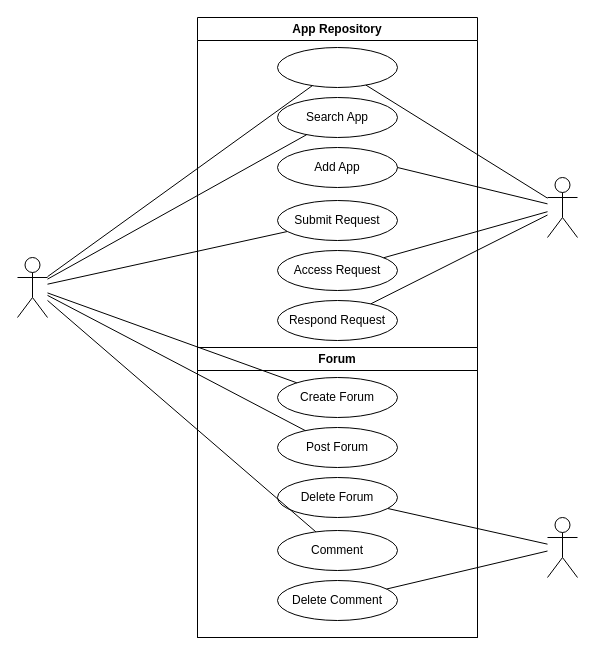
The diagram is 607 pixels wide and 655 high, and some of its shapes have lost their labels. The shapes that lost their labels are listed below. From the top down, each one's centre as x and y in pixels, then its label:
At (x=337, y=67): "View App".
At (x=562, y=207): "Admin".
At (x=32, y=287): "User".
At (x=562, y=547): "Moderator".
